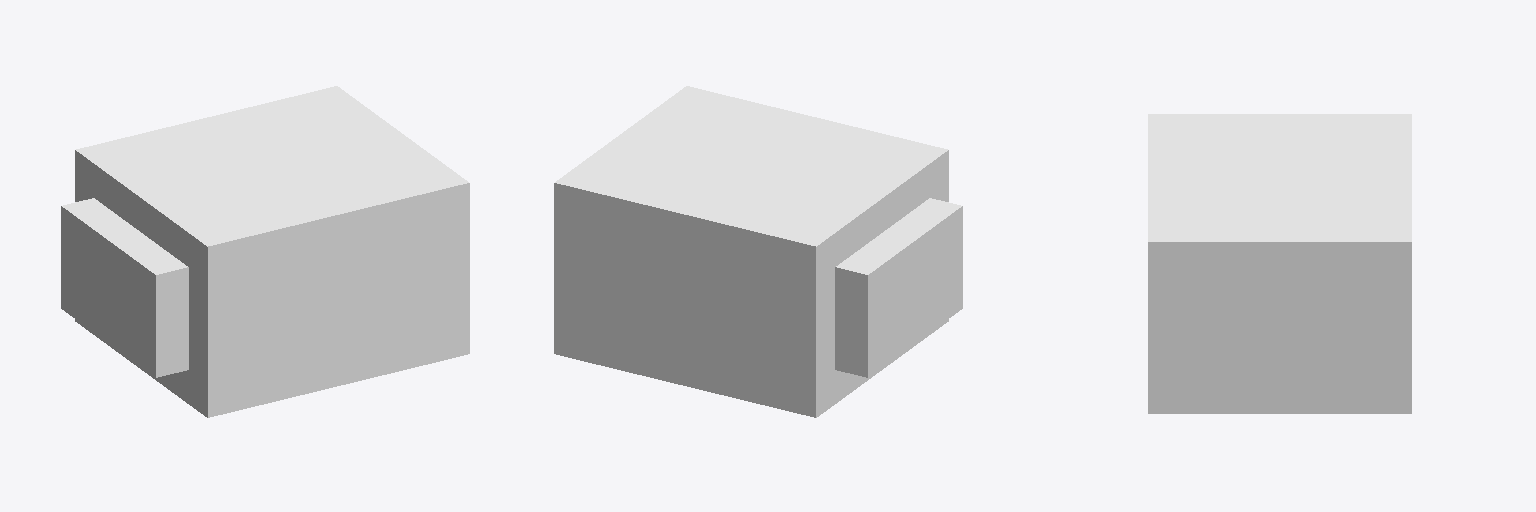
Rendered from Animals-9.obj.
3 renders of one model, left to right at view 1: azimuth 30°, elevation 25°; view 2: azimuth 150°, elevation 25°; view 3: azimuth 270°, elevation 25°, orthographic.
Visible parts, largest first — view 1: object 1; view 2: object 1; view 3: object 1.
Part boxes in pixels (x1,y1,x2,y2): object 1: (61, 86, 469, 417); object 1: (554, 86, 962, 417); object 1: (1148, 114, 1411, 413).
Size of the model in its own units: 0.9 by 0.5 by 0.7.